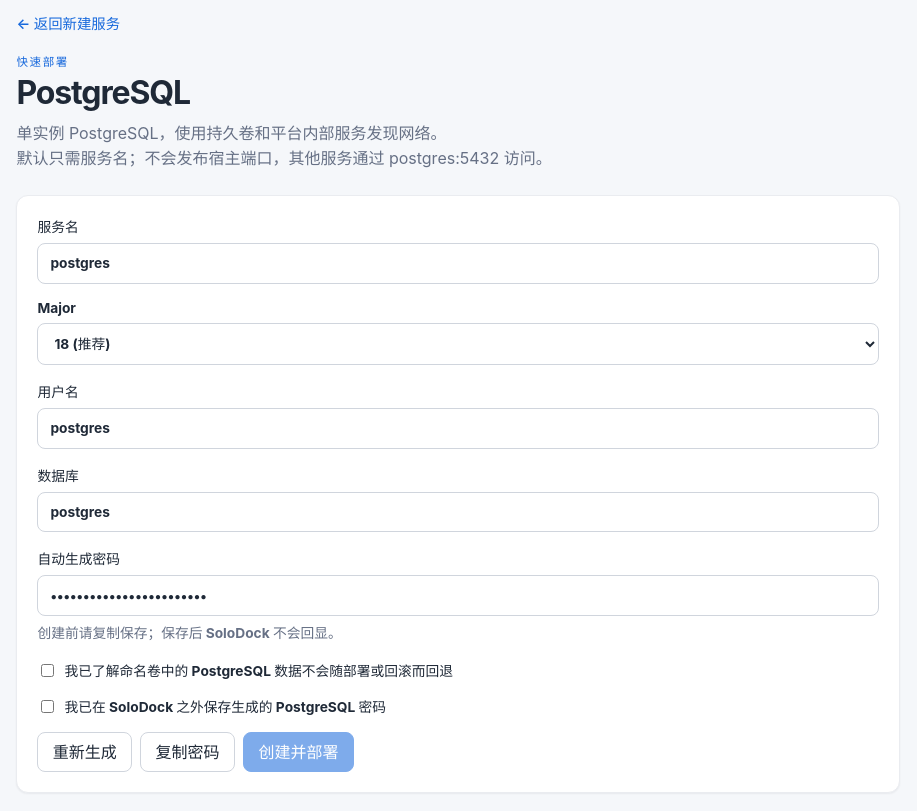
Scenario: PostgreSQL quick deploy › does not infer password storage from clipboard actions or failed copies
The width and height of the screenshot is (917, 811).
Click the button "复制密码".
click(188, 752)  # box [140,732,235,772]
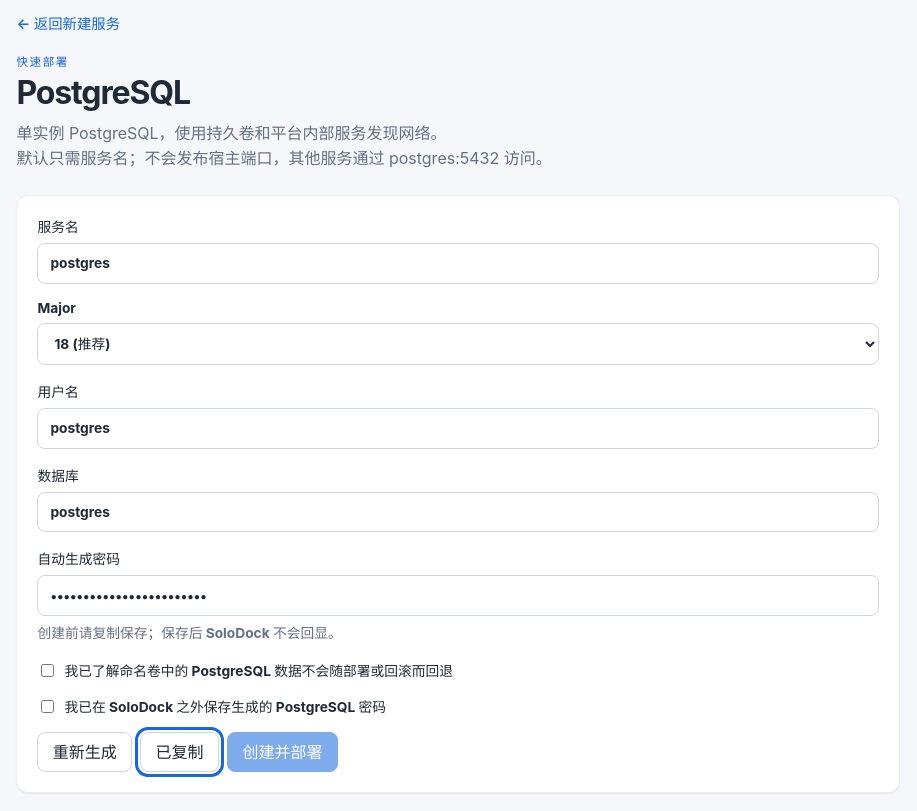
Expected: the checkbox labelled "我已在 SoloDock 之外保存生成的 PostgreSQL 密码" is not checked, [41,700,54,713]
Now the button "已复制" is shown
Click the button "已复制".
click(180, 752)  # box [140,732,219,772]
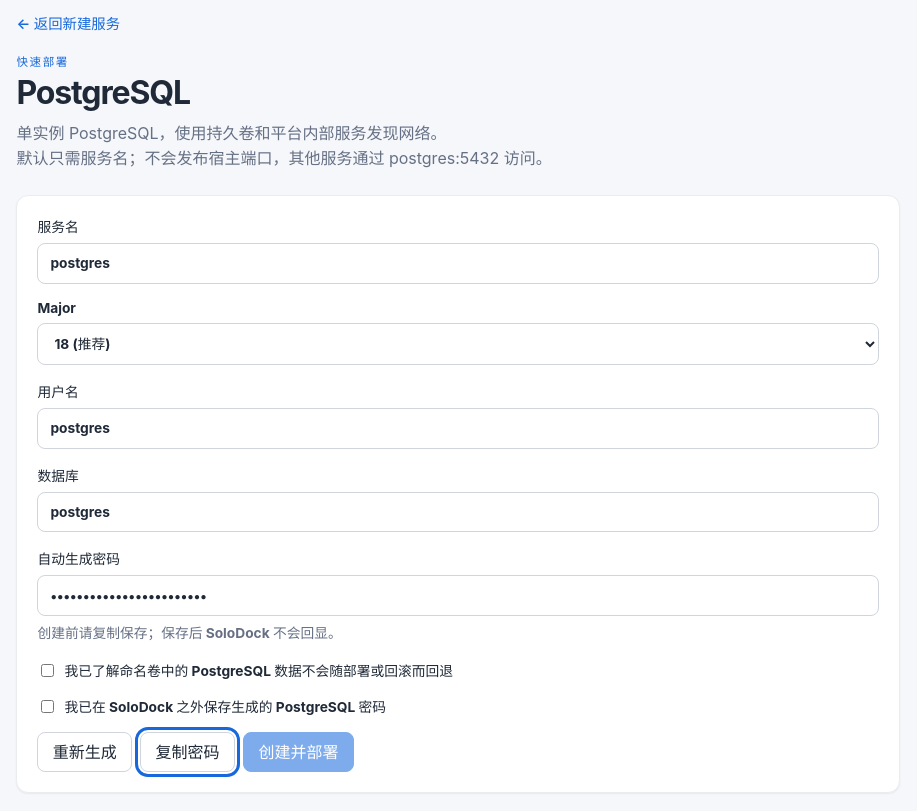
Expected: the checkbox labelled "我已在 SoloDock 之外保存生成的 PostgreSQL 密码" is not checked, [41,700,54,713]
Now the button "复制密码" is shown, box [140,732,235,772]
